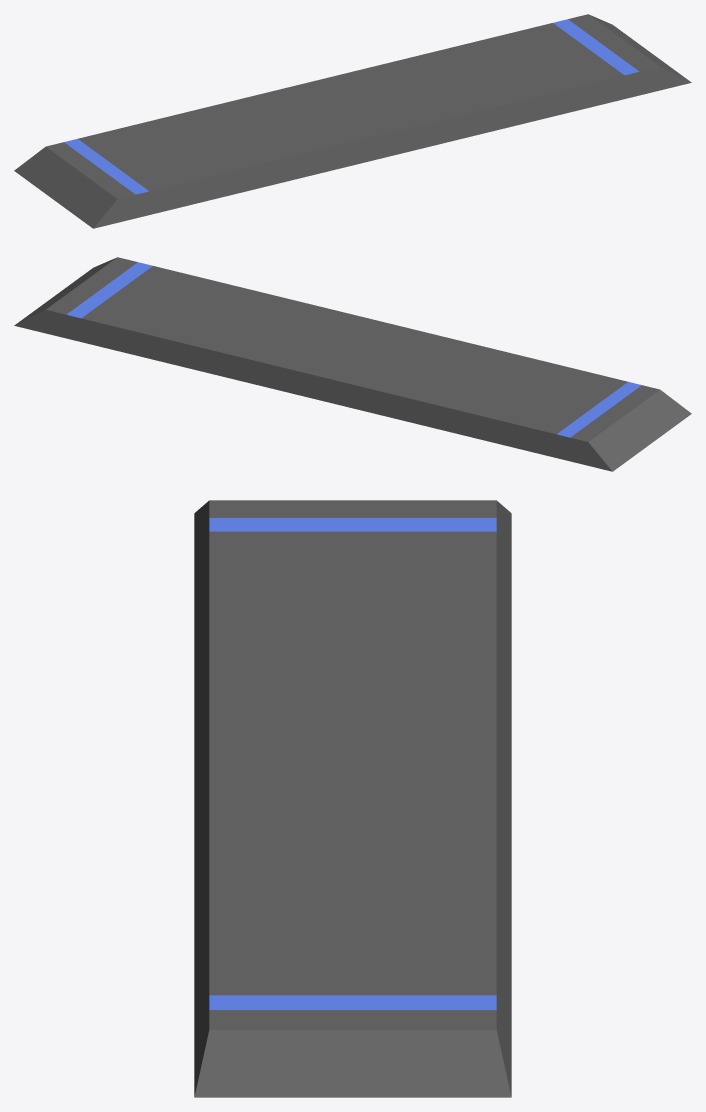
Rendered from Dest_PowerPlant_Belt_Single.FBX.
The picture shows the model from 3 angles, top to bottom: view 1: azimuth 30°, elevation 25°; view 2: azimuth 150°, elevation 25°; view 3: azimuth 270°, elevation 25°; orthographic projection. The views are drawn at different scales.
Parts seen in each view (by area): view 1: Box006; view 2: Box006; view 3: Box006.
Boxes of the visible parts, left/top/right/bottom form: Box006: left=14, top=14, right=691, bottom=228; Box006: left=14, top=257, right=691, bottom=471; Box006: left=194, top=500, right=511, bottom=1097.
Size of the model in its own units: 44.72 by 1.44 by 10.26.
